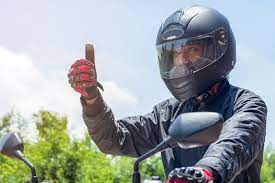helmets: (137, 0, 249, 99)
